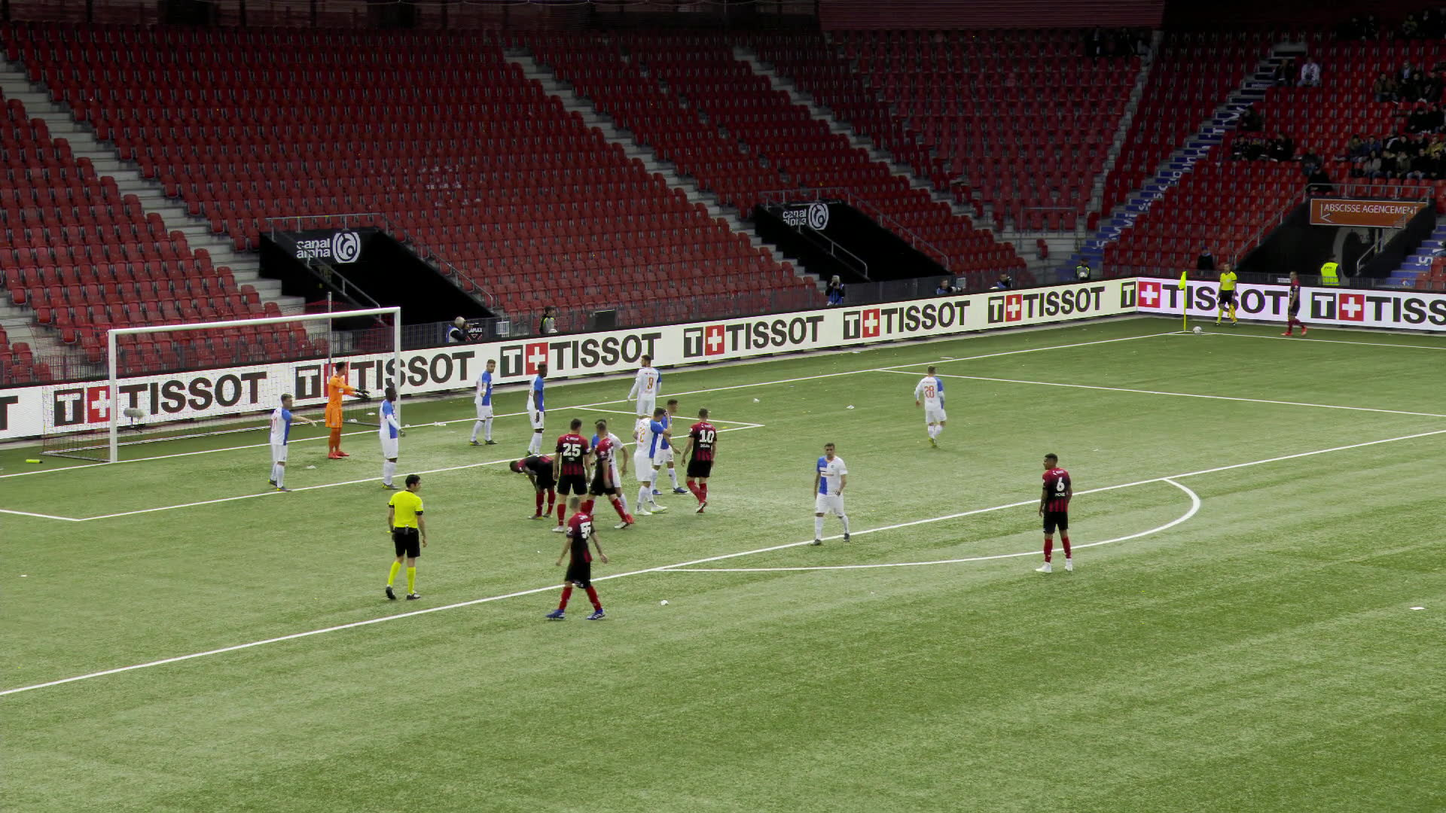ball: (1192, 325, 1201, 333)
player: (560, 493, 605, 619), (549, 416, 594, 530), (1033, 451, 1075, 571), (320, 358, 371, 455), (807, 437, 852, 542), (264, 390, 308, 488), (590, 413, 630, 519), (681, 406, 719, 513), (635, 403, 671, 513), (510, 445, 558, 516), (592, 418, 624, 524), (374, 385, 406, 487), (915, 363, 954, 446), (523, 361, 551, 457), (657, 395, 684, 492), (630, 348, 660, 427), (1272, 269, 1307, 333), (471, 355, 496, 443)
referee: (381, 471, 428, 598), (1212, 261, 1237, 325)
